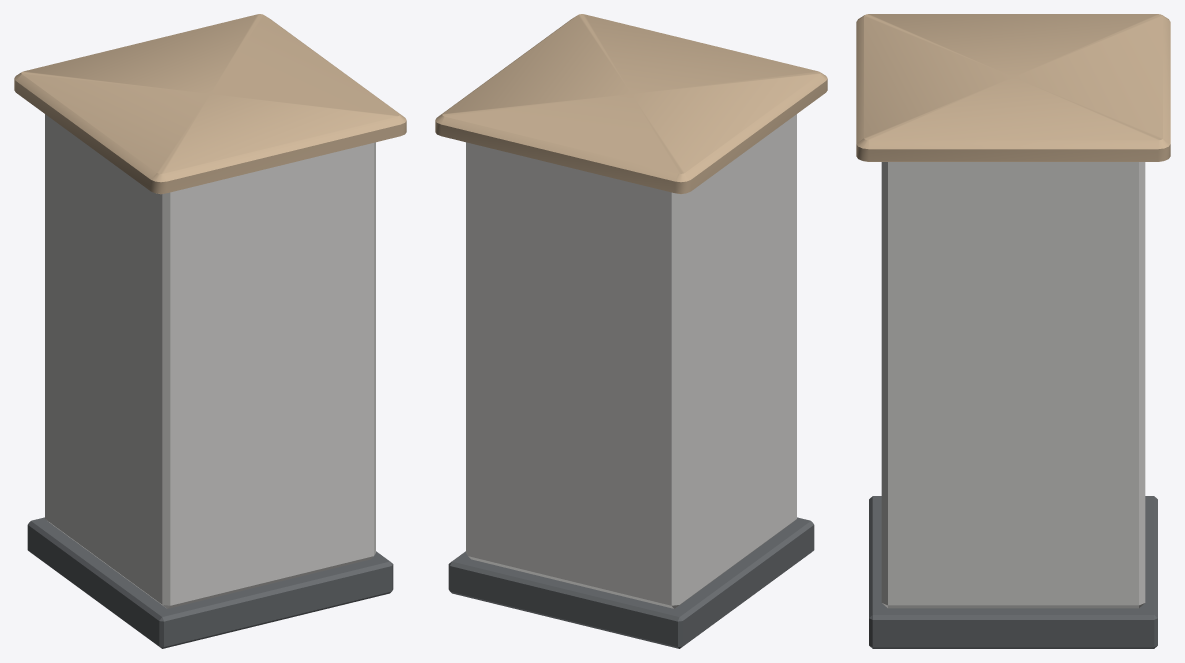
3 views of the same model, side by side, from view 1: azimuth 30°, elevation 25°; view 2: azimuth 150°, elevation 25°; view 3: azimuth 270°, elevation 25° (orthographic). The views are drawn at different scales.
Parts seen in each view (by area): view 1: display-form-plinth; view 2: display-form-plinth; view 3: display-form-plinth.
Part boxes in pixels (x1,y1,x2,y2): display-form-plinth: [14, 14, 406, 648]; display-form-plinth: [435, 14, 827, 648]; display-form-plinth: [856, 14, 1170, 648].
Size of the model in its own units: 0.5 by 0.9 by 0.5.
